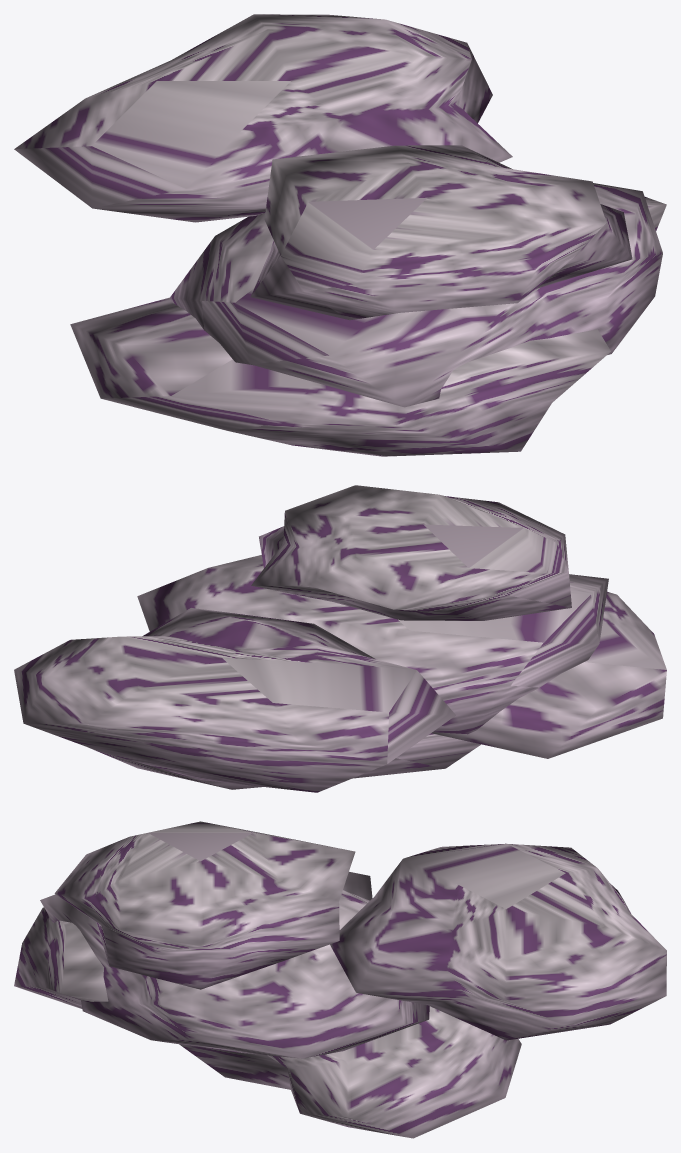
Rendered from rocklichenitem.glb.
3 views of the same model, one above another, from view 1: azimuth 30°, elevation 25°; view 2: azimuth 150°, elevation 25°; view 3: azimuth 270°, elevation 25° (orthographic). The views are drawn at different scales.
Parts seen in each view (by area): view 1: rocklichenitem; view 2: rocklichenitem; view 3: rocklichenitem.
Boxes of the visible parts, x1,y1,x2,y2 form: rocklichenitem: (14,14,666,456); rocklichenitem: (14,485,666,792); rocklichenitem: (14,821,666,1138).
Bounding box in the file's own units: 0.1197 × 0.0379 × 0.1289.
1 material, 1 textured.
